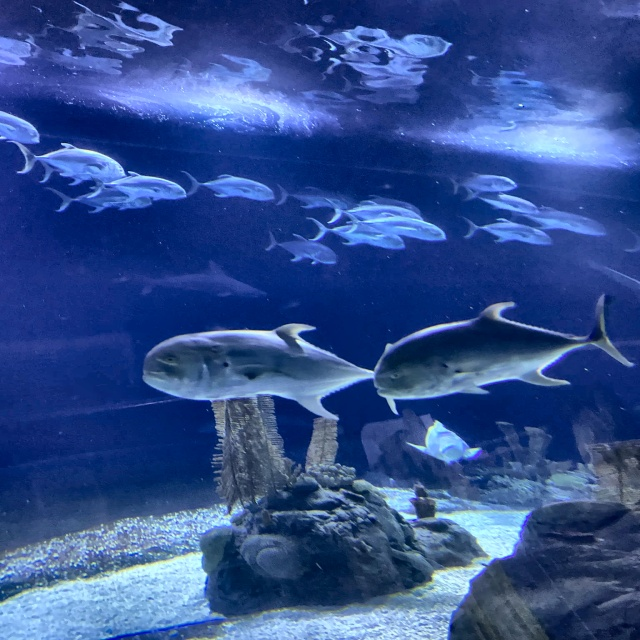fish: (372, 294, 633, 399), (140, 322, 402, 418), (16, 144, 127, 189), (320, 194, 425, 230), (305, 215, 407, 250), (88, 170, 192, 203), (408, 420, 479, 466), (342, 212, 446, 242), (459, 216, 550, 250), (182, 171, 277, 202), (49, 187, 154, 214), (532, 202, 608, 237), (265, 231, 339, 266), (453, 170, 515, 198), (0, 109, 41, 145)
shark: (119, 262, 270, 305)
